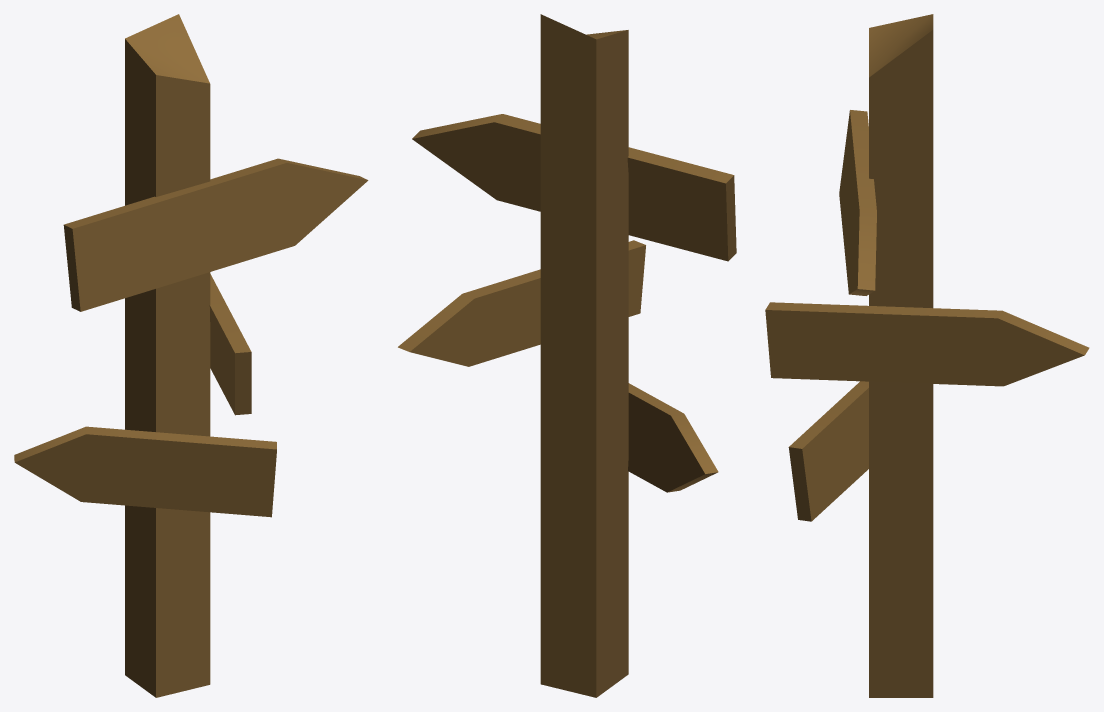
Rendered from pancarte.fbx.
3 renders of one model, left to right at view 1: azimuth 30°, elevation 25°; view 2: azimuth 150°, elevation 25°; view 3: azimuth 270°, elevation 25°, orthographic. The views are drawn at different scales.
Visible parts, largest first — view 1: pancarte; view 2: pancarte; view 3: pancarte.
Boxes of the visible parts, x1,y1,x2,y2 form: pancarte: [14, 14, 368, 697]; pancarte: [398, 14, 736, 697]; pancarte: [765, 14, 1089, 697].
Size of the model in its own units: 1.6 by 3.08 by 1.36.
